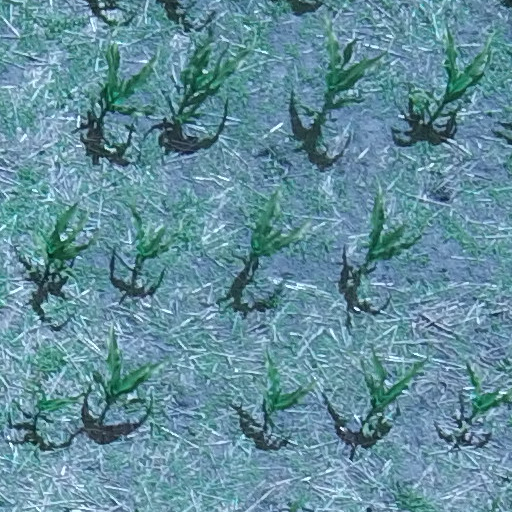planta: (300, 19, 386, 124), (167, 42, 248, 125), (22, 203, 98, 281), (424, 27, 485, 124), (358, 193, 420, 273), (92, 330, 158, 404), (97, 43, 157, 119), (115, 200, 171, 275), (244, 192, 301, 263), (363, 353, 416, 422), (262, 354, 308, 428), (464, 363, 510, 418), (35, 388, 89, 412)
